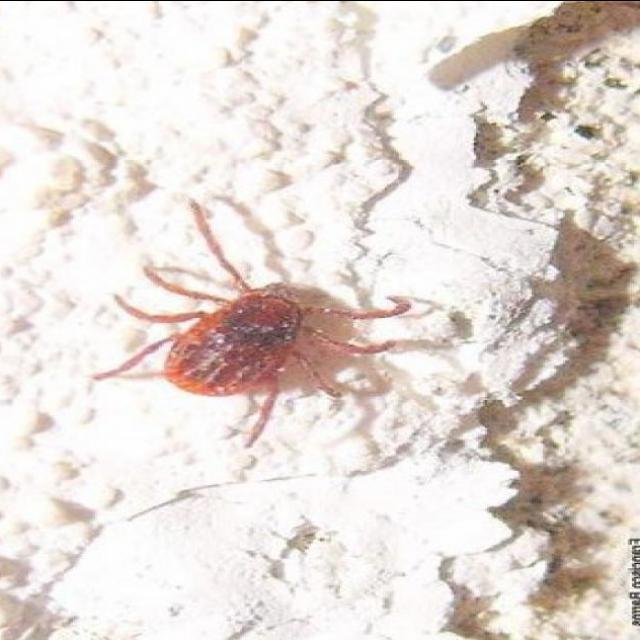Rhipicephalus Sanguineus-F: (93, 199, 449, 447)
